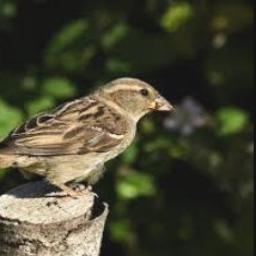Sparrow: (0, 76, 173, 196)
